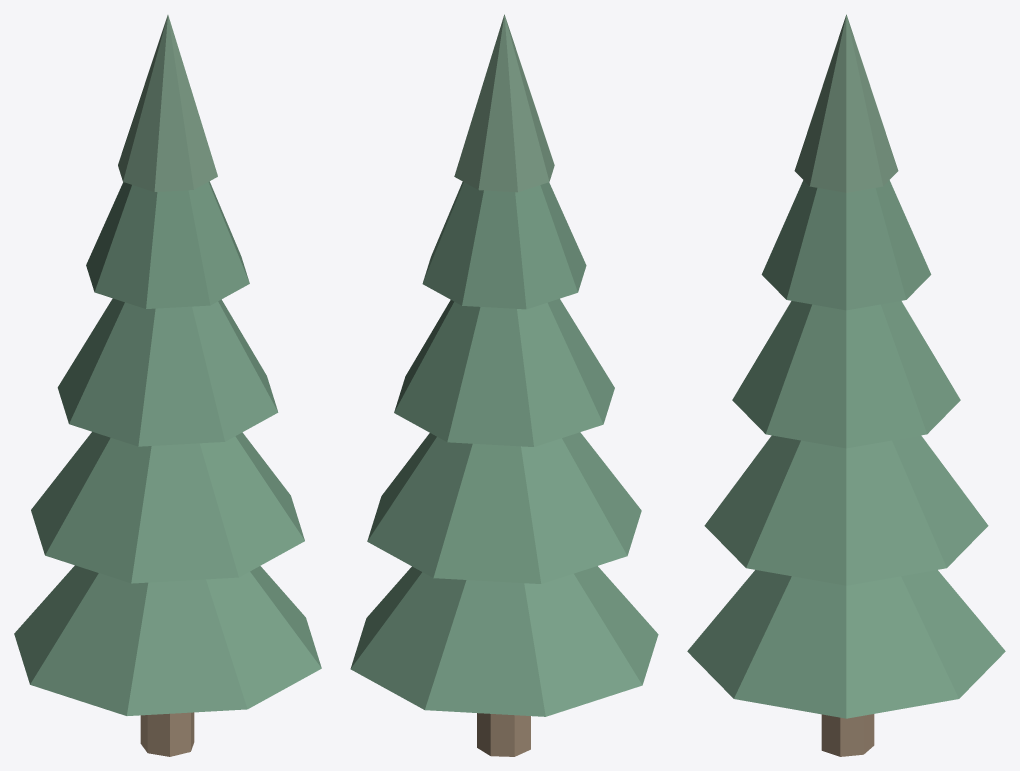
File: split_pine_near-BGKuJiKF.glb
3 renders of one model, left to right at view 1: azimuth 30°, elevation 25°; view 2: azimuth 150°, elevation 25°; view 3: azimuth 270°, elevation 25°, orthographic.
Parts seen in each view (by area): view 1: split_pine_near; view 2: split_pine_near; view 3: split_pine_near.
Boxes of the visible parts, x1,y1,x2,y2 form: split_pine_near: (14, 15, 321, 756); split_pine_near: (350, 14, 658, 756); split_pine_near: (687, 14, 1005, 756).
Size of the model in its own units: 9.2 by 23.3 by 9.2.
